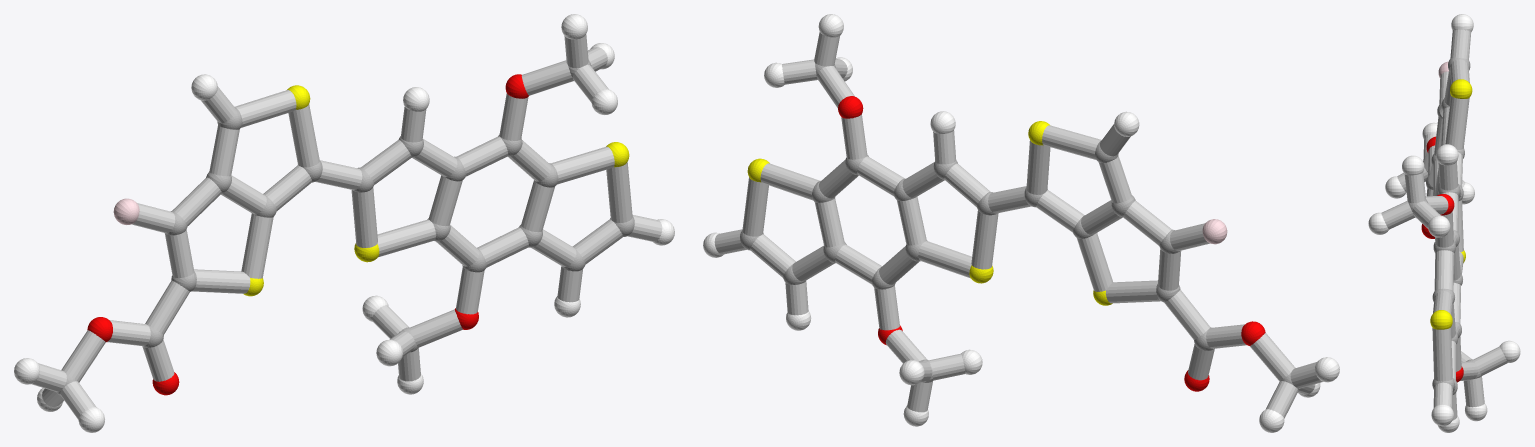
File: color.glb
The picture shows the model from 3 angles, left to right: view 1: azimuth 30°, elevation 25°; view 2: azimuth 150°, elevation 25°; view 3: azimuth 270°, elevation 25°; orthographic projection. The views are drawn at different scales.
Parts seen in each view (by area): view 1: grp15205, grp8689, grp1, grp13395, grp7241; view 2: grp15205, grp8689, grp1, grp13395, grp7241; view 3: grp15205, grp8689, grp1, grp7241, grp13395.
Boxes of the visible parts, x1,y1,x2,y2 form: grp15205: (31,34,662,419); grp8689: (14,14,674,432); grp1: (56,60,634,395); grp13395: (87,74,528,395); grp7241: (243,85,629,296); grp15205: (714,32,1322,418); grp8689: (703,14,1339,432); grp1: (740,63,1301,390); grp13395: (838,96,1265,391); grp7241: (747,121,1112,305); grp15205: (1381,29,1507,420); grp8689: (1368,14,1520,432); grp1: (1408,57,1481,394); grp7241: (1430,79,1472,329); grp13395: (1421,136,1463,382).
Bounding box in the file's own units: 17.19 × 9.32 × 4.05.
